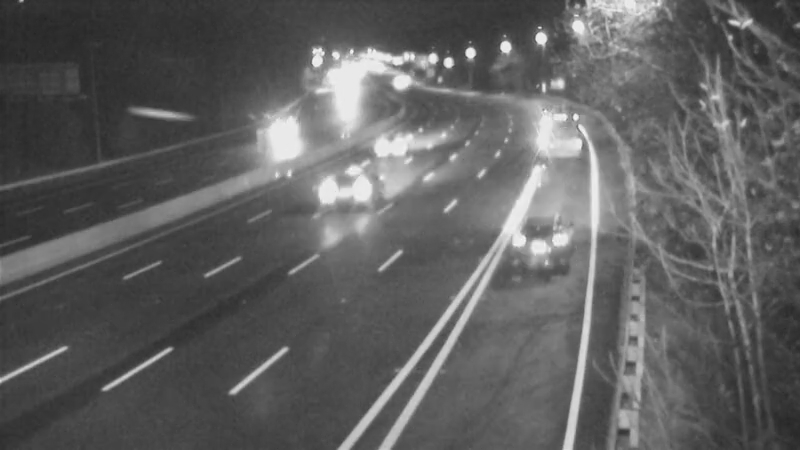vehicle: (311, 155, 391, 235), (500, 213, 580, 293), (529, 101, 579, 151), (363, 114, 413, 164), (267, 106, 317, 156)
